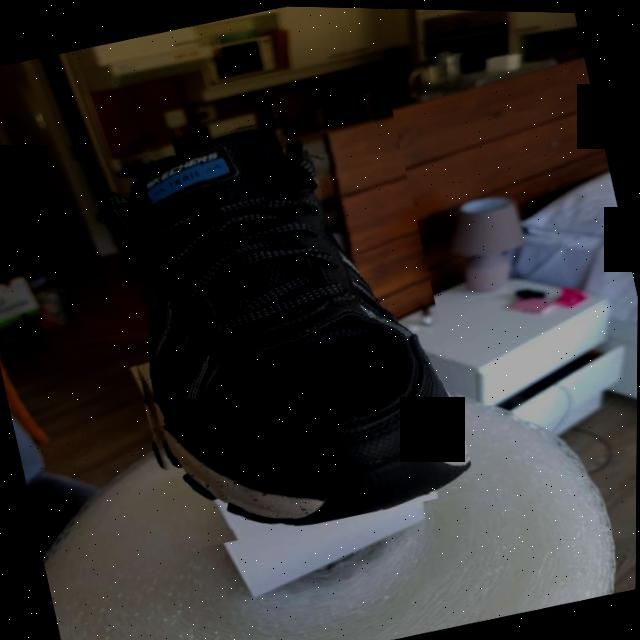shoe: (80, 86, 480, 558)
